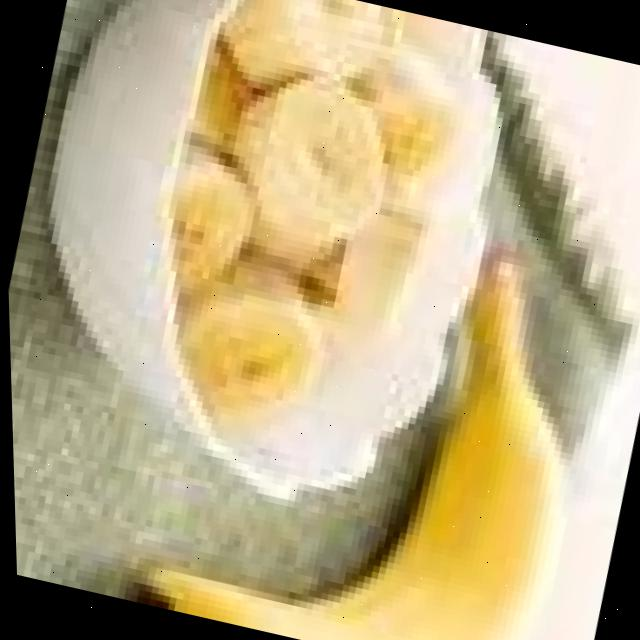Banana: (174, 267, 557, 640)
